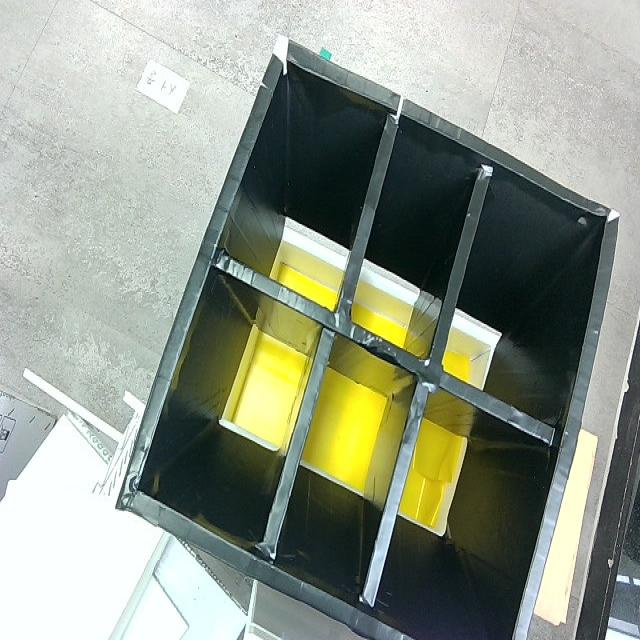box: (109, 20, 625, 640)
